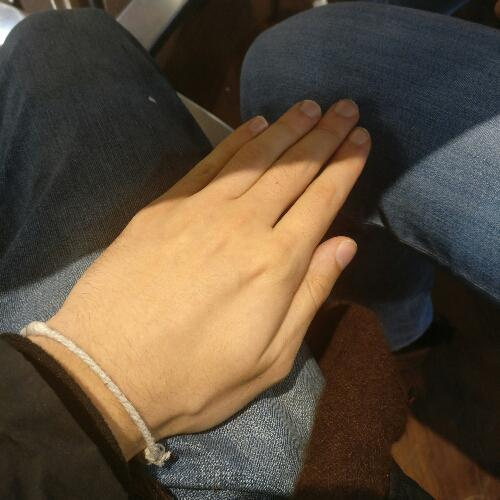paper: (33, 90, 382, 441)
